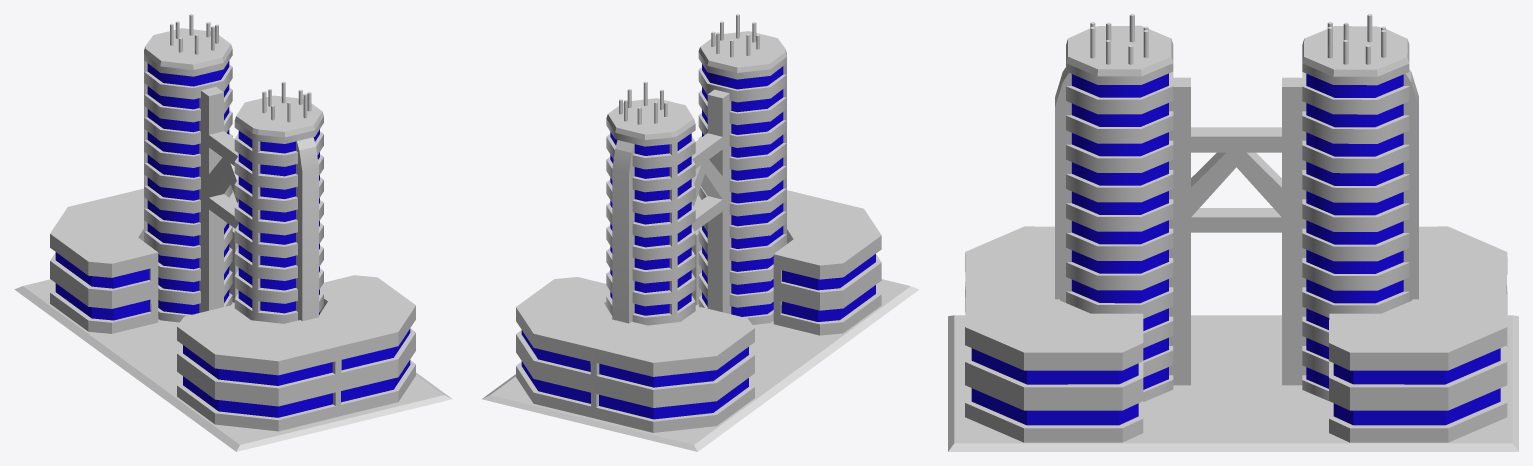
The model's file is varli_lvl3.FBX.
3 renders of one model, left to right at view 1: azimuth 30°, elevation 25°; view 2: azimuth 150°, elevation 25°; view 3: azimuth 270°, elevation 25°, orthographic. The views are drawn at different scales.
Visible parts, largest first — view 1: nijnii_etag, zdanie, osnovanie, Box001, xrenovina_s_boku; view 2: nijnii_etag, zdanie, osnovanie, Box001, xrenovina_s_boku; view 3: zdanie, nijnii_etag, osnovanie, Box001, xrenovina_s_boku.
Part boxes in pixels (box(x1,y1,x2,y2)): nijnii_etag: box(50, 188, 415, 431); zdanie: box(144, 28, 323, 323); osnovanie: box(14, 279, 452, 451); Box001: box(199, 87, 238, 312); xrenovina_s_boku: box(296, 137, 318, 321); nijnii_etag: box(516, 190, 881, 432); zdanie: box(606, 31, 786, 325); osnovanie: box(482, 279, 919, 451); Box001: box(691, 89, 731, 314); xrenovina_s_boku: box(612, 140, 634, 323); zdanie: box(1066, 25, 1409, 401); nijnii_etag: box(965, 226, 1507, 442); osnovanie: box(948, 315, 1518, 451); Box001: box(1169, 77, 1306, 385); xrenovina_s_boku: box(1055, 67, 1418, 302).
Size of the model in its own units: 356 by 449 by 633.
